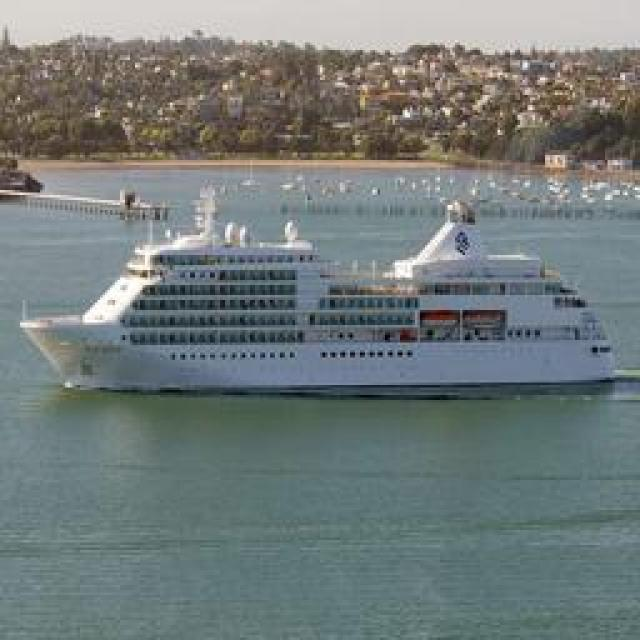CIV_Ship: (30, 186, 628, 402)
